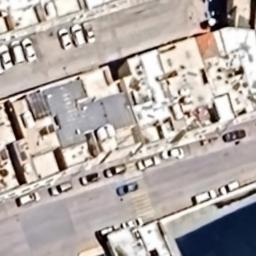SUV: (8, 38, 28, 64), (49, 179, 75, 199), (104, 161, 128, 182), (70, 23, 89, 48), (17, 189, 42, 208), (219, 177, 243, 196), (191, 188, 219, 204)
sedan: (19, 37, 39, 63), (136, 154, 162, 172), (0, 44, 15, 72), (114, 180, 140, 196), (222, 127, 248, 143), (79, 170, 101, 188), (58, 26, 74, 50), (82, 21, 96, 45), (161, 148, 187, 160)
